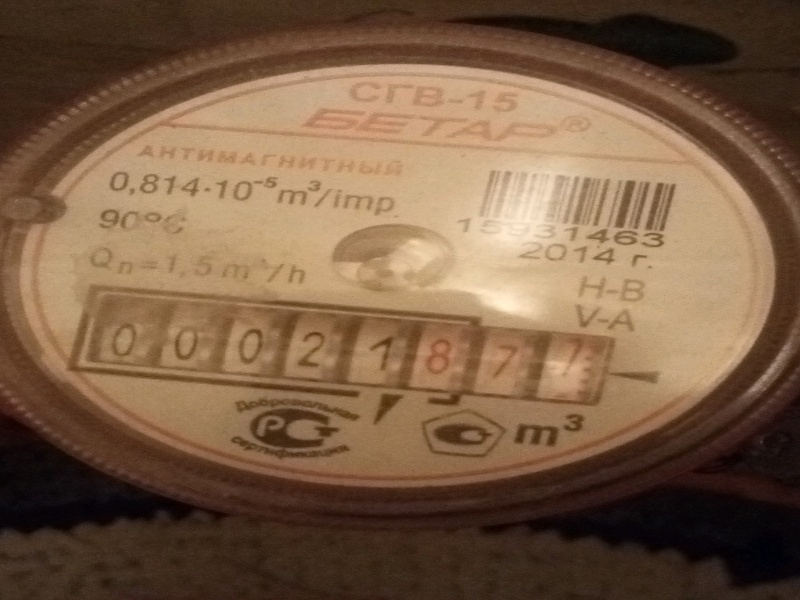dial: (99, 305, 584, 401)
